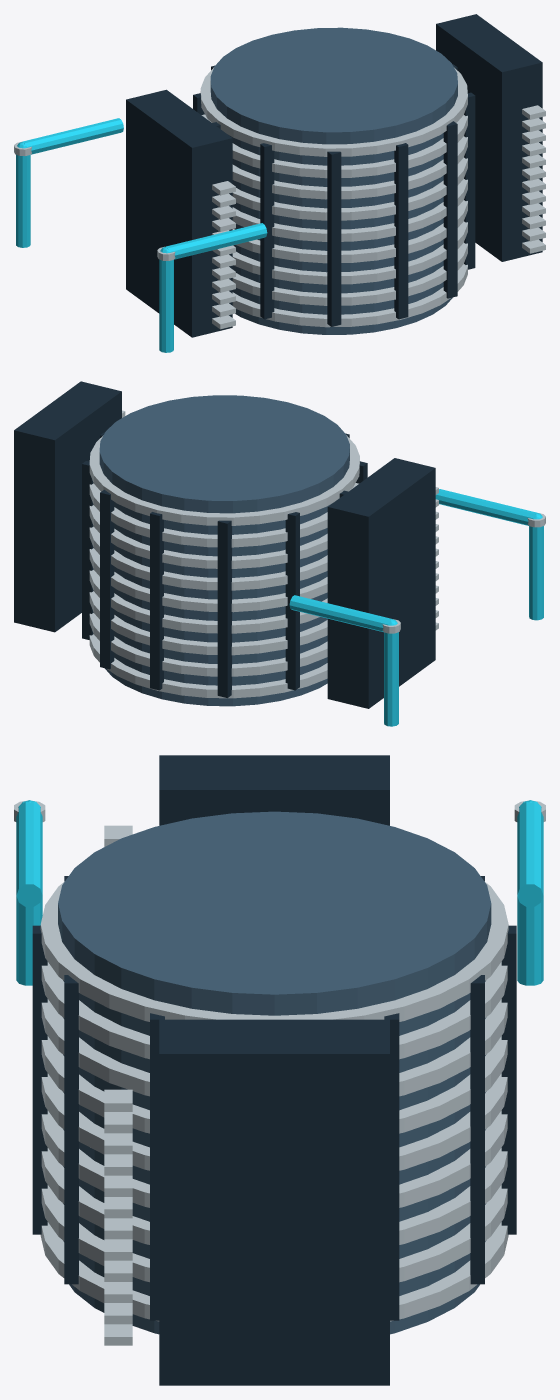
Rendered from 15_L74_VirtualDUVLightSource.fbx.
3 views of the same model, one above another, from view 1: azimuth 30°, elevation 25°; view 2: azimuth 150°, elevation 25°; view 3: azimuth 270°, elevation 25° (orthographic). The views are drawn at different scales.
Parts seen in each view (by area): view 1: VirtualDUVLightSource; view 2: VirtualDUVLightSource; view 3: VirtualDUVLightSource.
Boxes of the visible parts, x1,y1,x2,y2 form: VirtualDUVLightSource: (14,14,545,352); VirtualDUVLightSource: (14,381,545,726); VirtualDUVLightSource: (14,755,545,1385).
Size of the model in its own units: 239 by 112 by 150.
